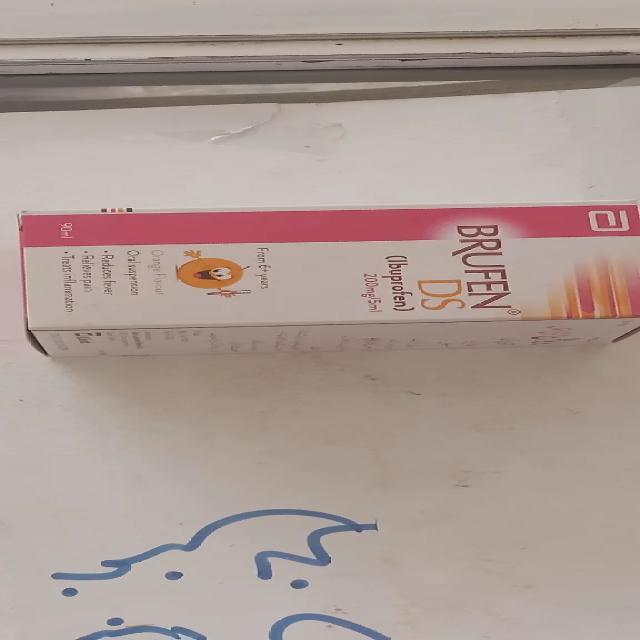drug-name: (415, 218, 515, 315)
